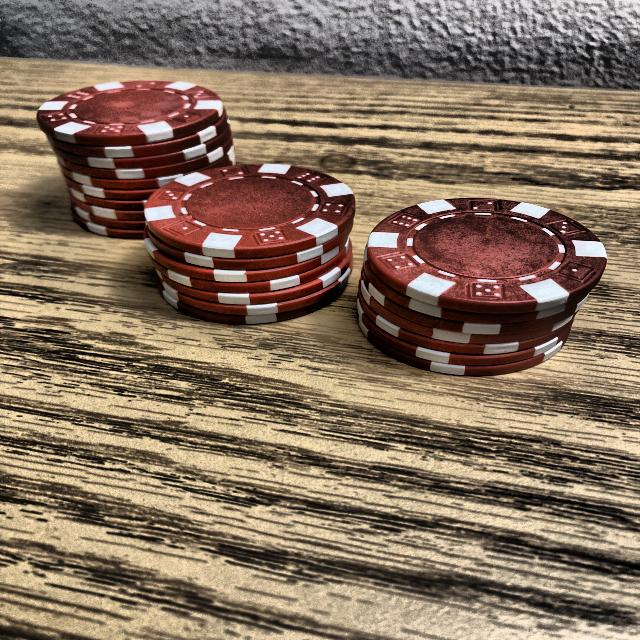Chip: (353, 159, 615, 407), (123, 145, 363, 345), (38, 63, 247, 258)
